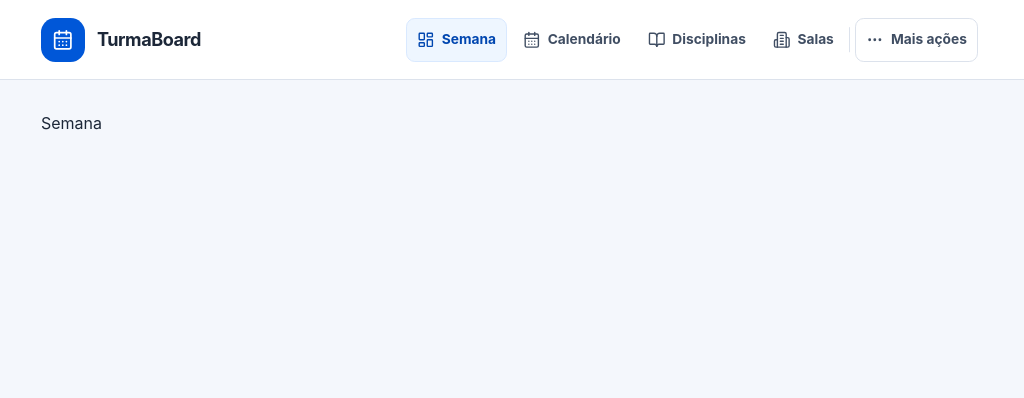
Test case: AppShell › moves the role badge and sign-out into the menu once signed in
Expected: the text "Admin" is not shown
Click the button "Mais ações".
click(916, 40)  # box [855,18,978,62]
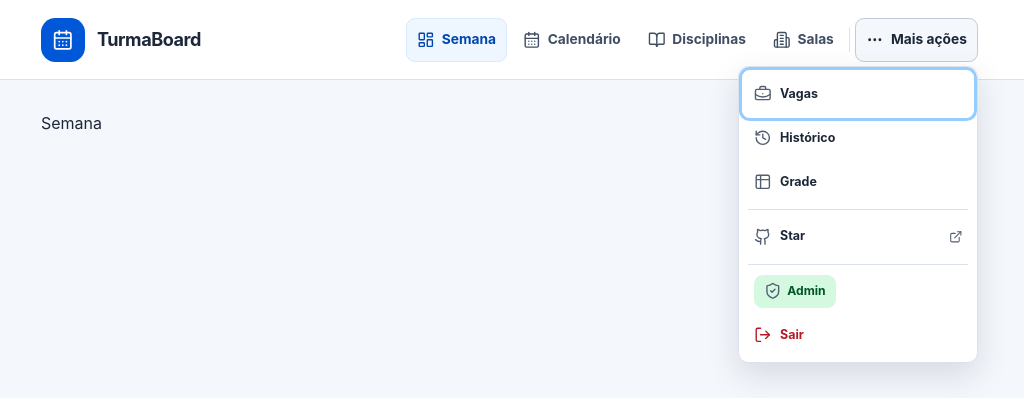
Expected: the text "Admin" is shown, [754,275,836,308]
Expected: the button "Sair" is shown, [744,313,972,357]
